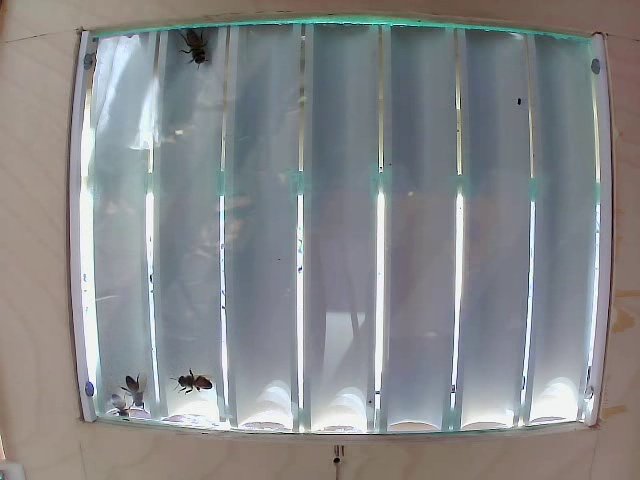bee: (177, 14, 218, 70), (170, 360, 215, 402), (116, 380, 148, 411)
